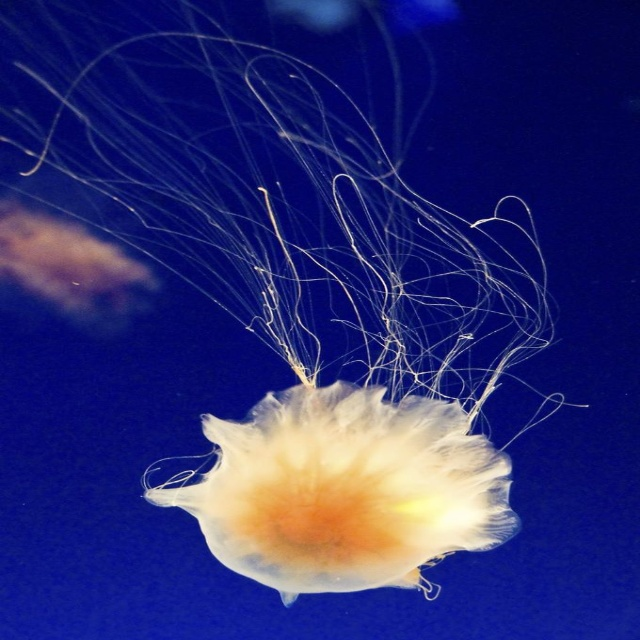Jellyfish: (0, 4, 586, 608)
